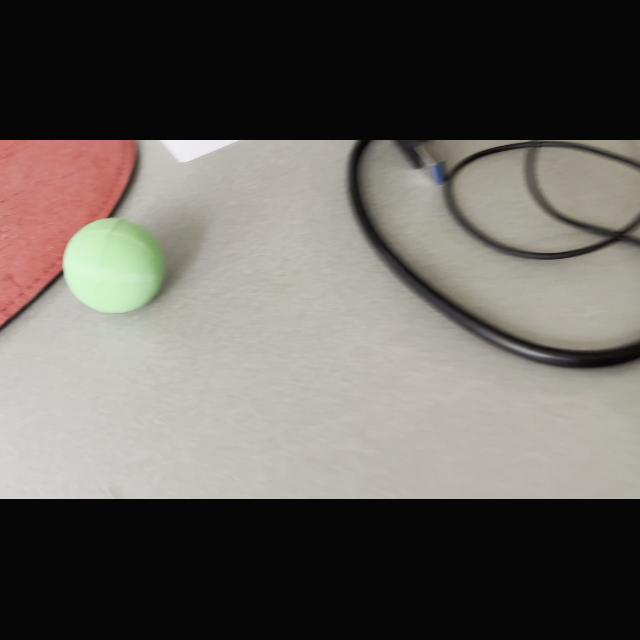objects: (56, 210, 174, 320)
